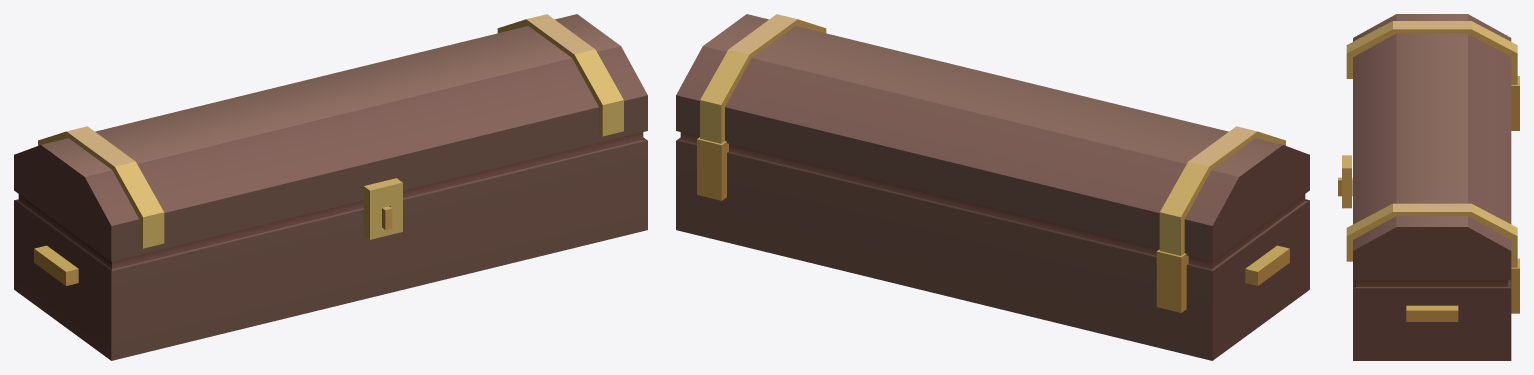
File: SF_Prop_Elven_Chest_01.fbx
3 views of the same model, side by side, from view 1: azimuth 30°, elevation 25°; view 2: azimuth 150°, elevation 25°; view 3: azimuth 270°, elevation 25° (orthographic). The views are drawn at different scales.
Visible parts, largest first — view 1: SF_Prop_Elven_Chest_Lid_01, SF_Prop_Elven_Chest_01; view 2: SF_Prop_Elven_Chest_Lid_01, SF_Prop_Elven_Chest_01; view 3: SF_Prop_Elven_Chest_Lid_01, SF_Prop_Elven_Chest_01.
Boxes of the visible parts, box(x1,y1,x2,y2) form: SF_Prop_Elven_Chest_Lid_01: box(14, 14, 647, 261); SF_Prop_Elven_Chest_01: box(14, 132, 647, 360); SF_Prop_Elven_Chest_Lid_01: box(676, 14, 1309, 261); SF_Prop_Elven_Chest_01: box(676, 132, 1309, 360); SF_Prop_Elven_Chest_Lid_01: box(1342, 14, 1517, 280); SF_Prop_Elven_Chest_01: box(1338, 76, 1519, 360).
Size of the model in its own units: 3.31 by 0.9544 by 1.14.
